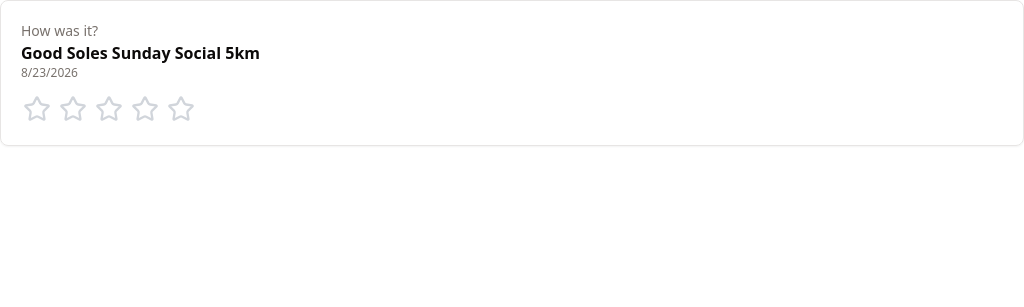
Test case: ReviewPrompt › only asks for words after a rating is given
Check: the element with test id "review-prompt" is shown, box [0,0,1023,146]
Click the radio button with test id "review-star-4" at x=145, y=109, box [129,93,161,125]
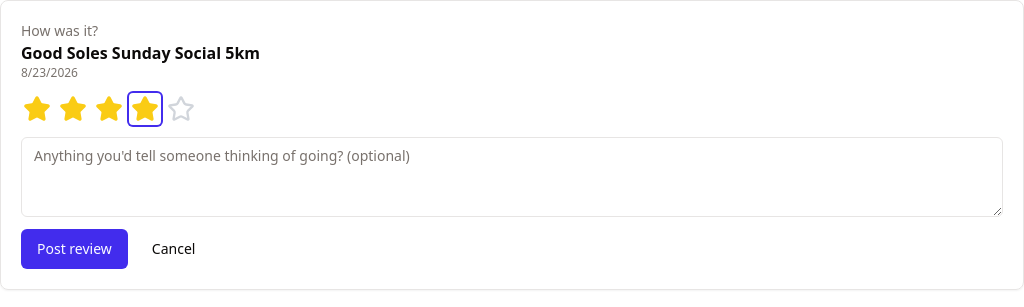
Check: the text box with test id "review-comment" is shown, box [21,137,1003,217]
